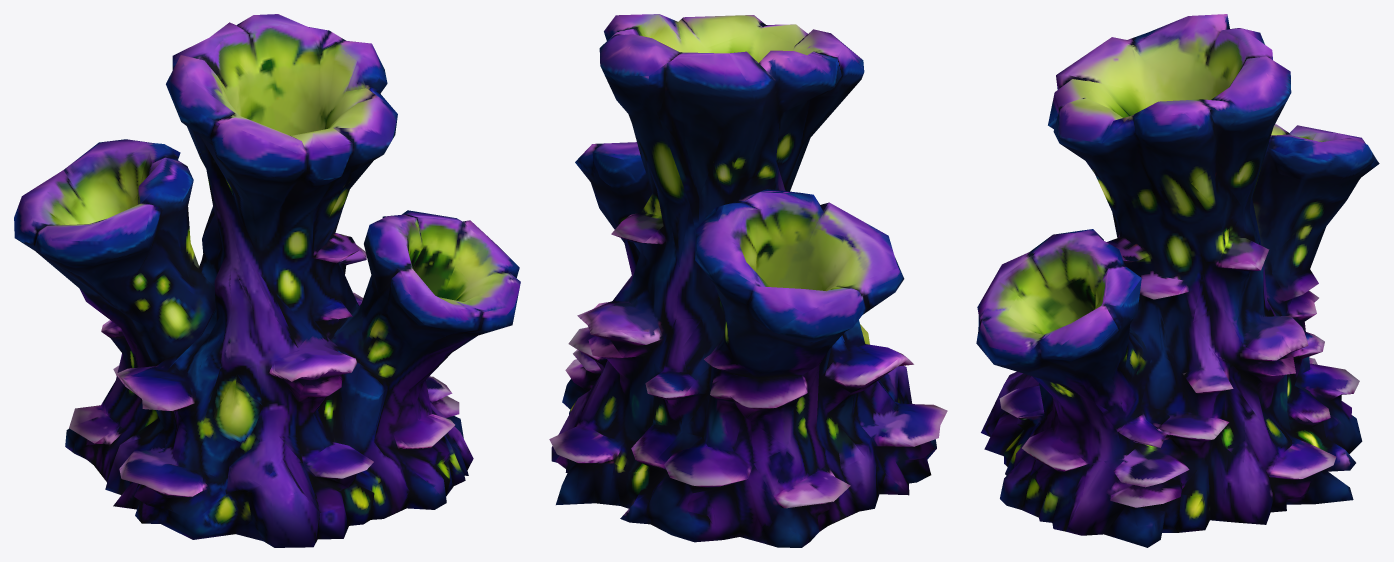
Rendered from fungal-spore-vent_LOD1.glb.
3 renders of one model, left to right at view 1: azimuth 30°, elevation 25°; view 2: azimuth 150°, elevation 25°; view 3: azimuth 270°, elevation 25°, orthographic. The views are drawn at different scales.
Visible parts, largest first — view 1: fungal-spore-vent_LOD1; view 2: fungal-spore-vent_LOD1; view 3: fungal-spore-vent_LOD1.
Part boxes in pixels (box(x1,y1,x2,y2)): fungal-spore-vent_LOD1: box(14, 14, 520, 547); fungal-spore-vent_LOD1: box(549, 14, 947, 547); fungal-spore-vent_LOD1: box(976, 14, 1379, 547).
Bounding box in the file's own units: 1.06 × 1.1 × 0.9564.
1 material, 1 textured.
